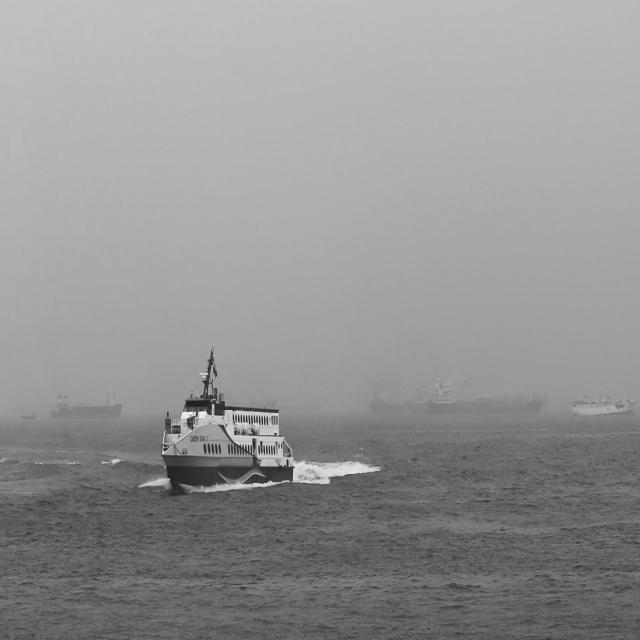ship: (162, 346, 294, 492), (432, 378, 546, 417), (50, 396, 124, 422), (570, 390, 636, 418), (368, 385, 413, 417), (227, 392, 280, 410), (414, 392, 430, 416), (21, 409, 38, 422)
